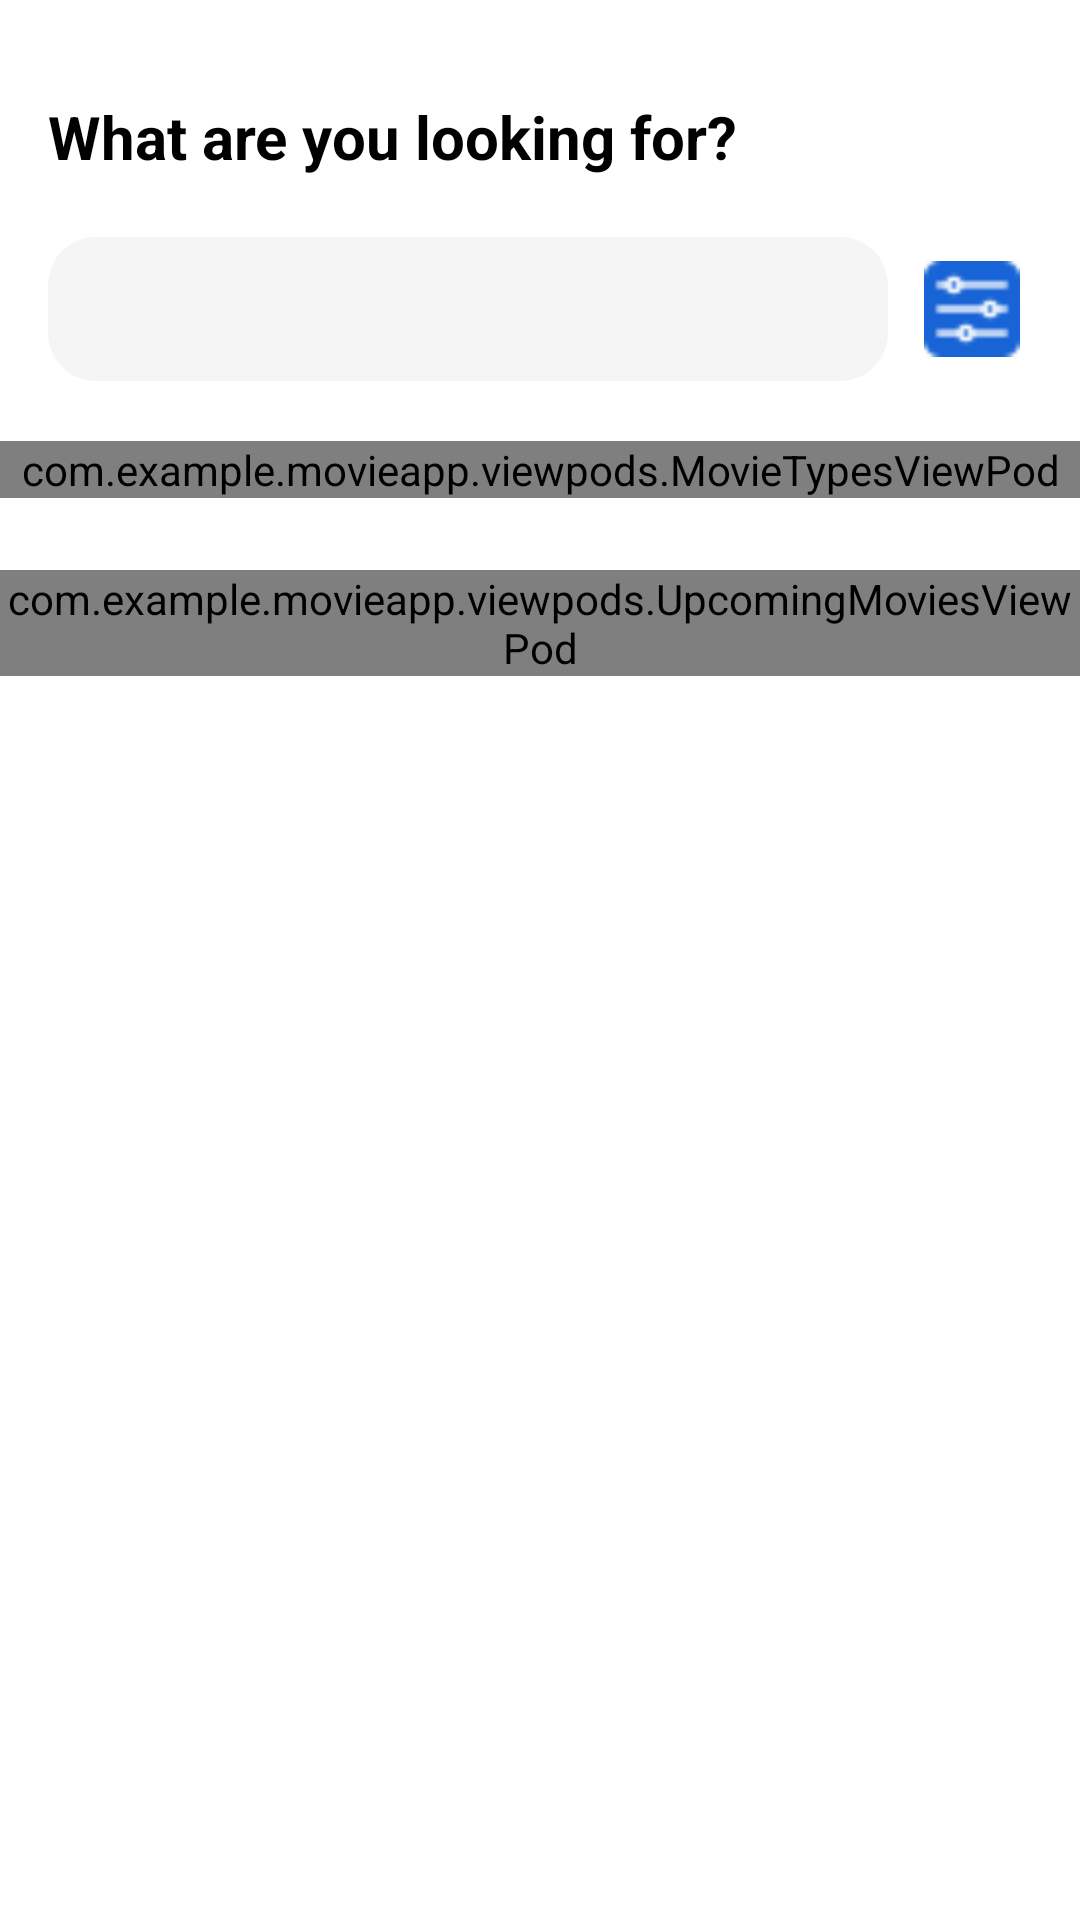

Icon bounding boxes for this 1080*1920 phone screenshot, format (x1, y1, x2, y2):
filter: (924, 261, 1020, 357)
